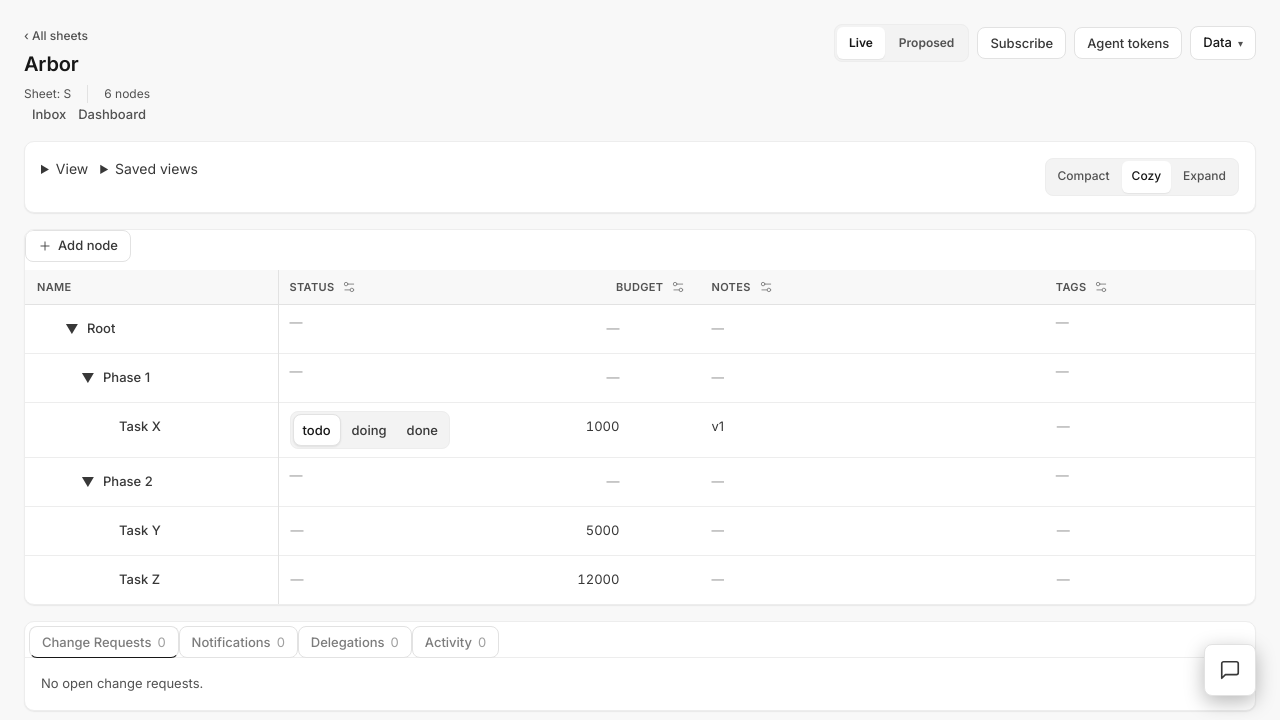
Scenario: App — snapshot-driven shell wiring › server error code surfaces an error banner, not a silent commit (WEB_UI-023/-085)
The width and height of the screenshot is (1280, 720).
Expected: the table with test id "tree-table" is shown, [25, 270, 1255, 604]
Click the element with test id "cell" showing "1000" at {"x": 603, "y": 426}, box [586, 418, 619, 434]
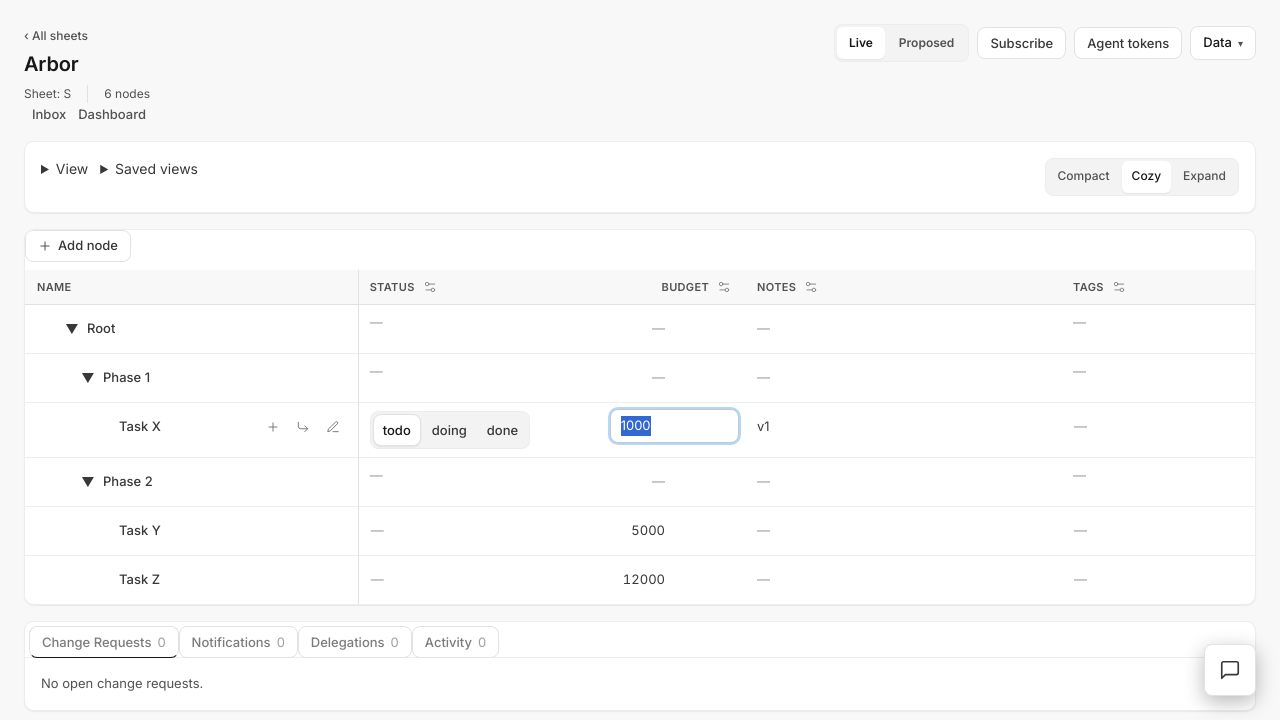
Replace the text in the field with test id "cell-input" with "999" at {"x": 674, "y": 426}, box [610, 409, 739, 442]
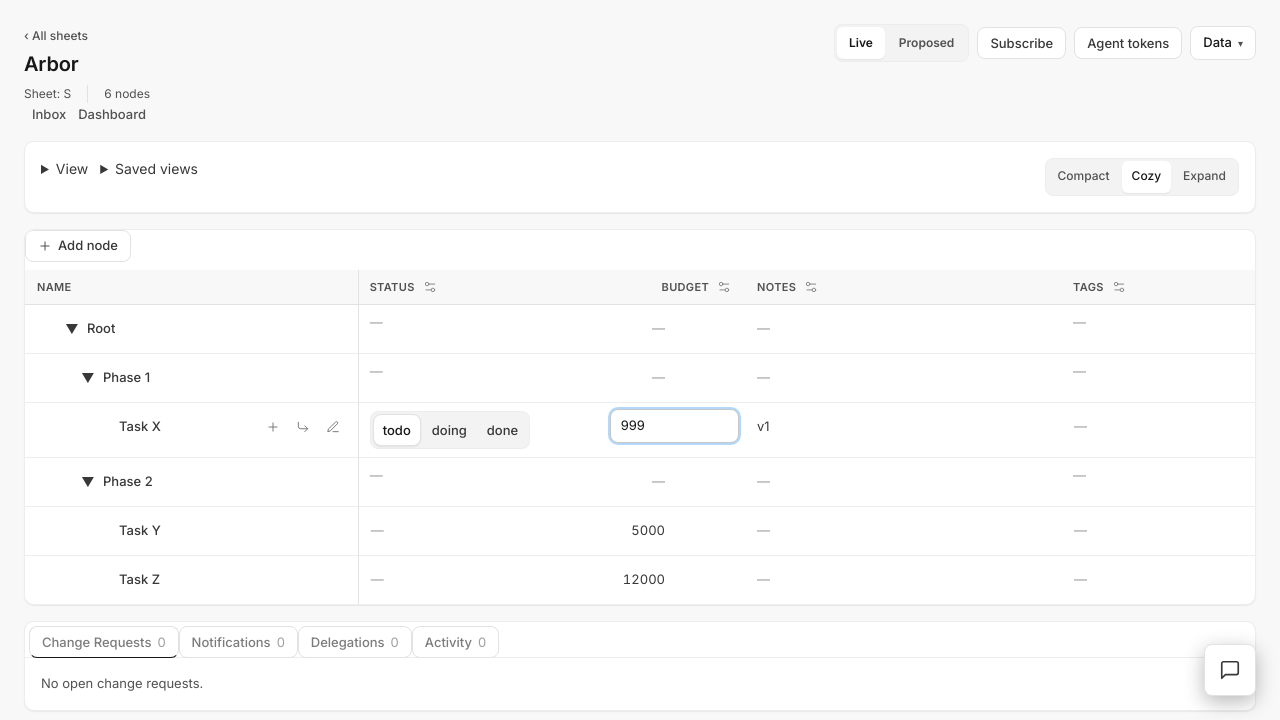
Leave the field with test id "cell-input", box [610, 409, 739, 442]
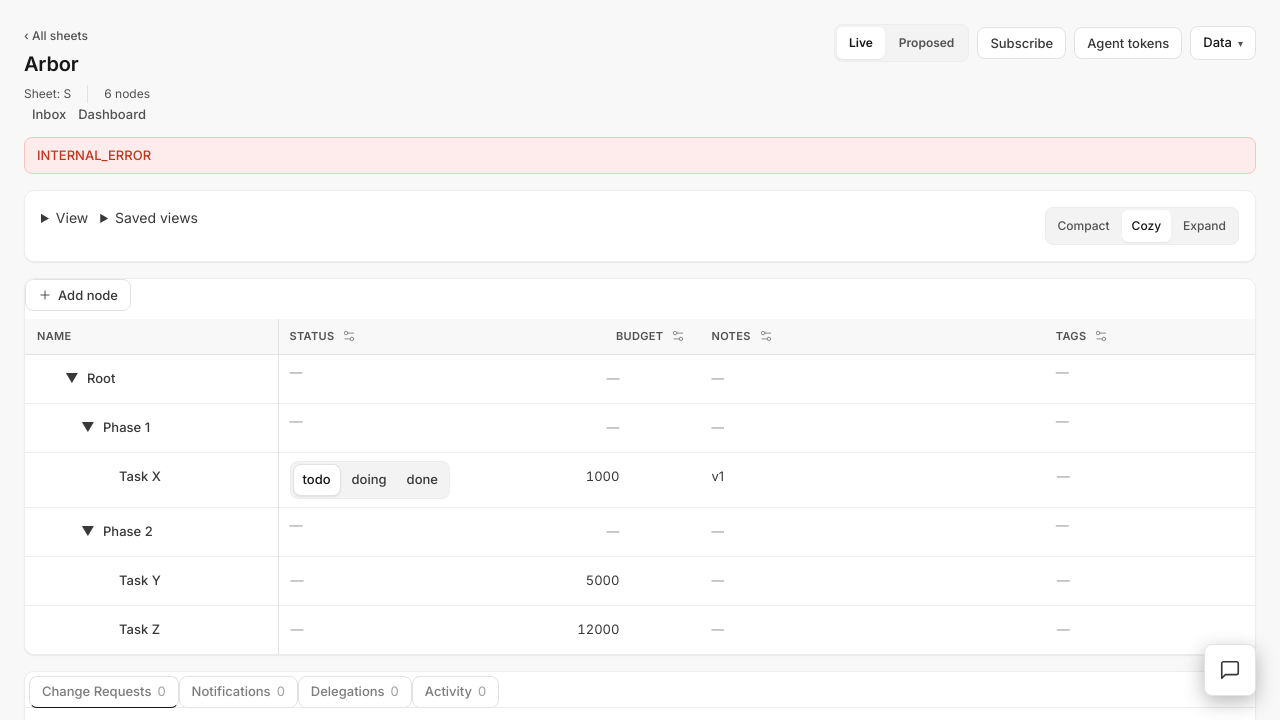
Expected: the message with test id "banner" reads "INTERNAL_ERROR", [37, 146, 151, 162]
